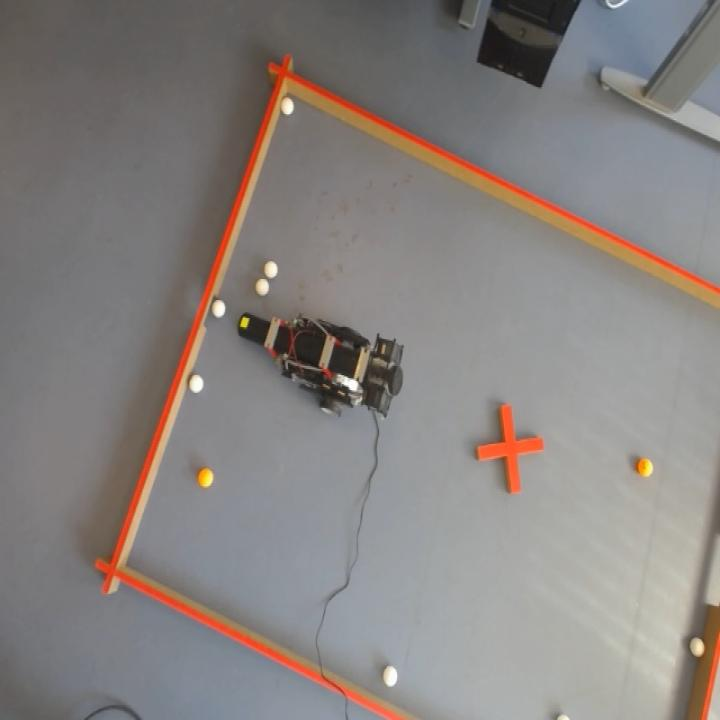orange: (635, 457, 656, 480), (196, 468, 214, 488)
robot: (237, 314, 404, 420)
robot-front: (238, 313, 266, 343)
white: (689, 635, 705, 657), (382, 666, 398, 686), (188, 374, 204, 394), (281, 94, 294, 116), (264, 259, 278, 279), (212, 298, 226, 318), (256, 279, 269, 296), (550, 711, 573, 720)
